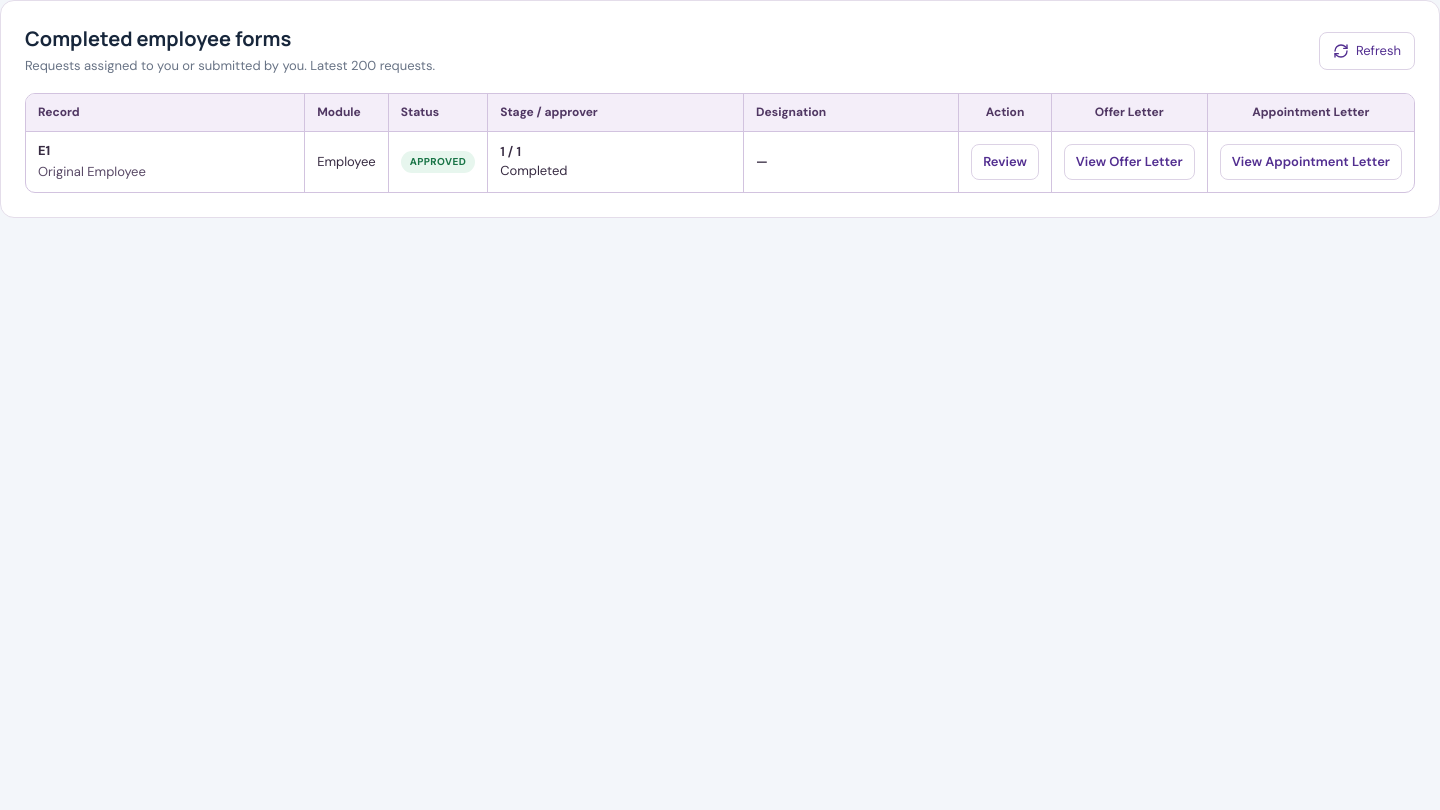
Test case: opens completed employee reviews as read-only
Click the button "Review" at (1005, 162), box 971,144 -> 1039,180
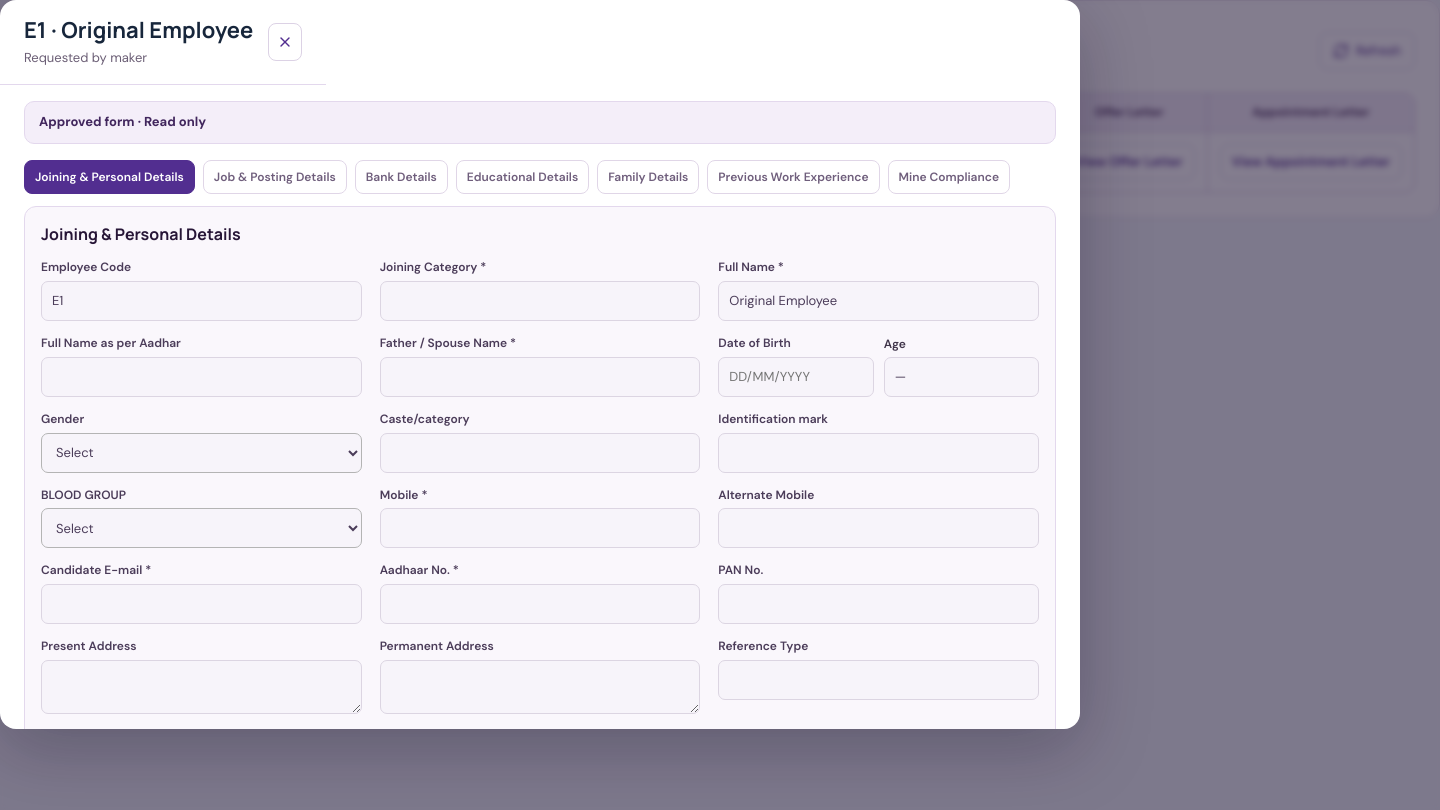
Now the text "Approved form · Read only" is shown, box 39,113 -> 206,130
